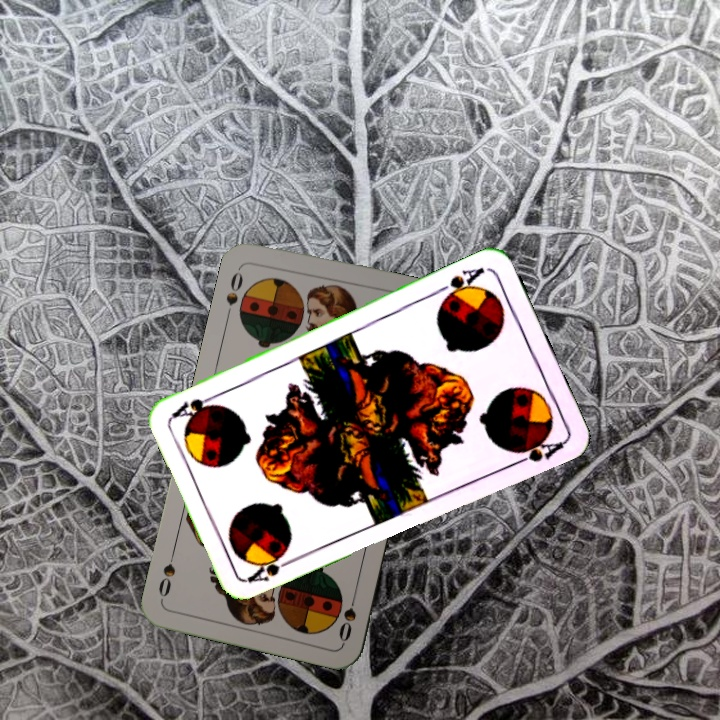SA: (433, 263, 487, 304), (244, 549, 300, 585)
SO: (334, 586, 360, 645), (222, 261, 246, 319)
